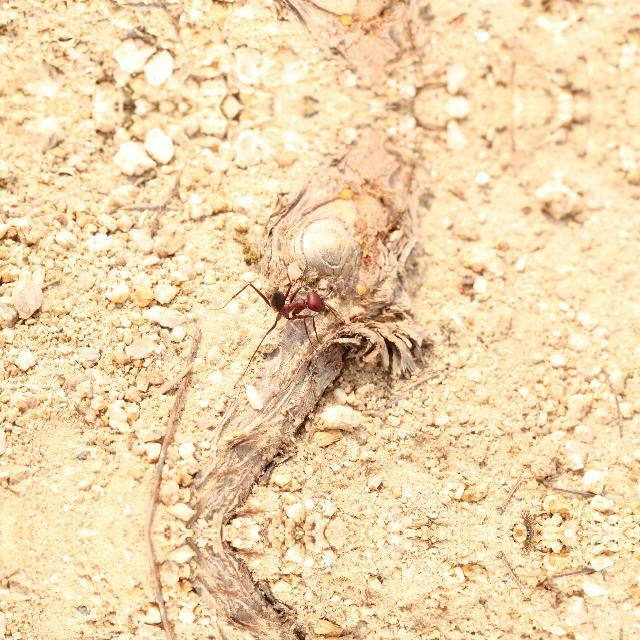Cataglyphis: (244, 274, 340, 332)
